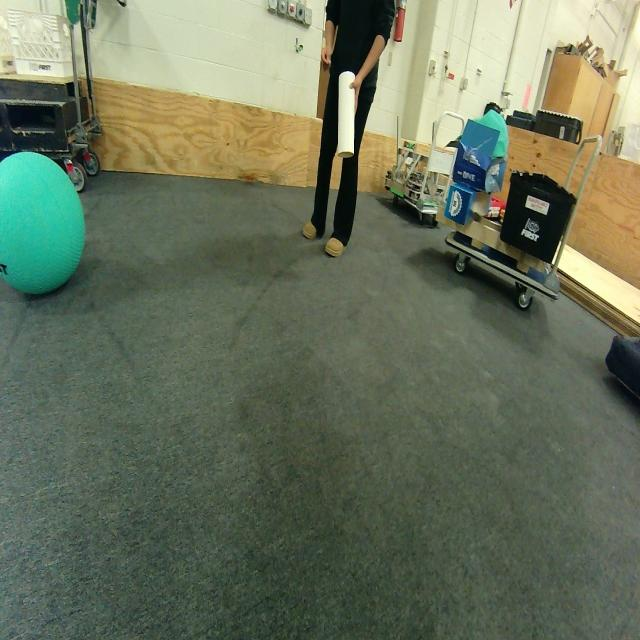algae: (0, 152, 85, 294)
